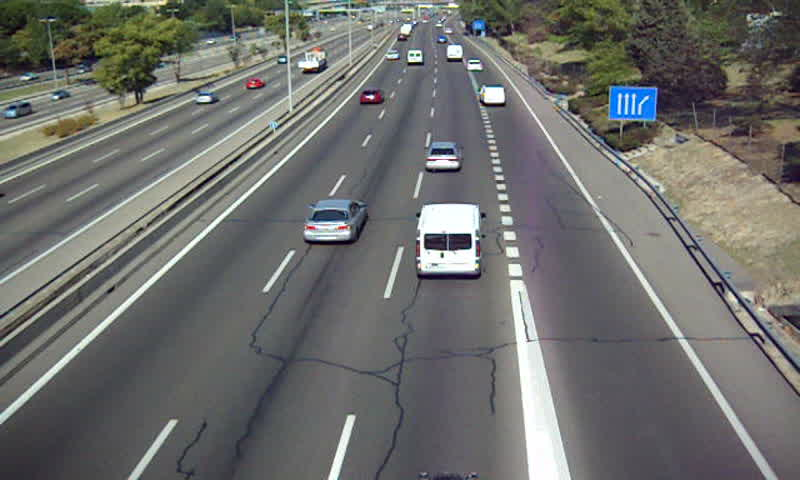car: (303, 200, 367, 243), (424, 142, 462, 173), (360, 88, 385, 103), (466, 58, 484, 72)
van: (416, 204, 482, 279), (480, 84, 505, 106), (406, 48, 424, 66), (445, 45, 464, 60)
